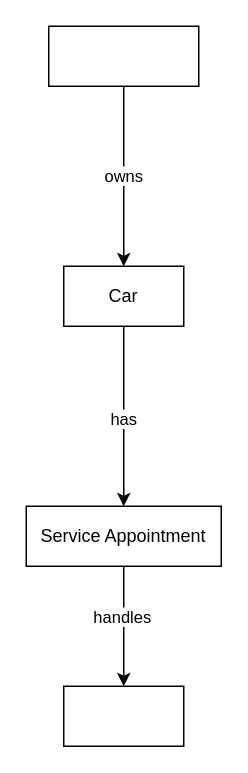
Some shapes in this 248 by 773 pixel diagram are drawn without their labels. The box of each missing label's shape, as (x1, y1, x2, y2) in pixels:
Customer: (47, 25, 199, 86)
Mechanic: (62, 685, 184, 746)
